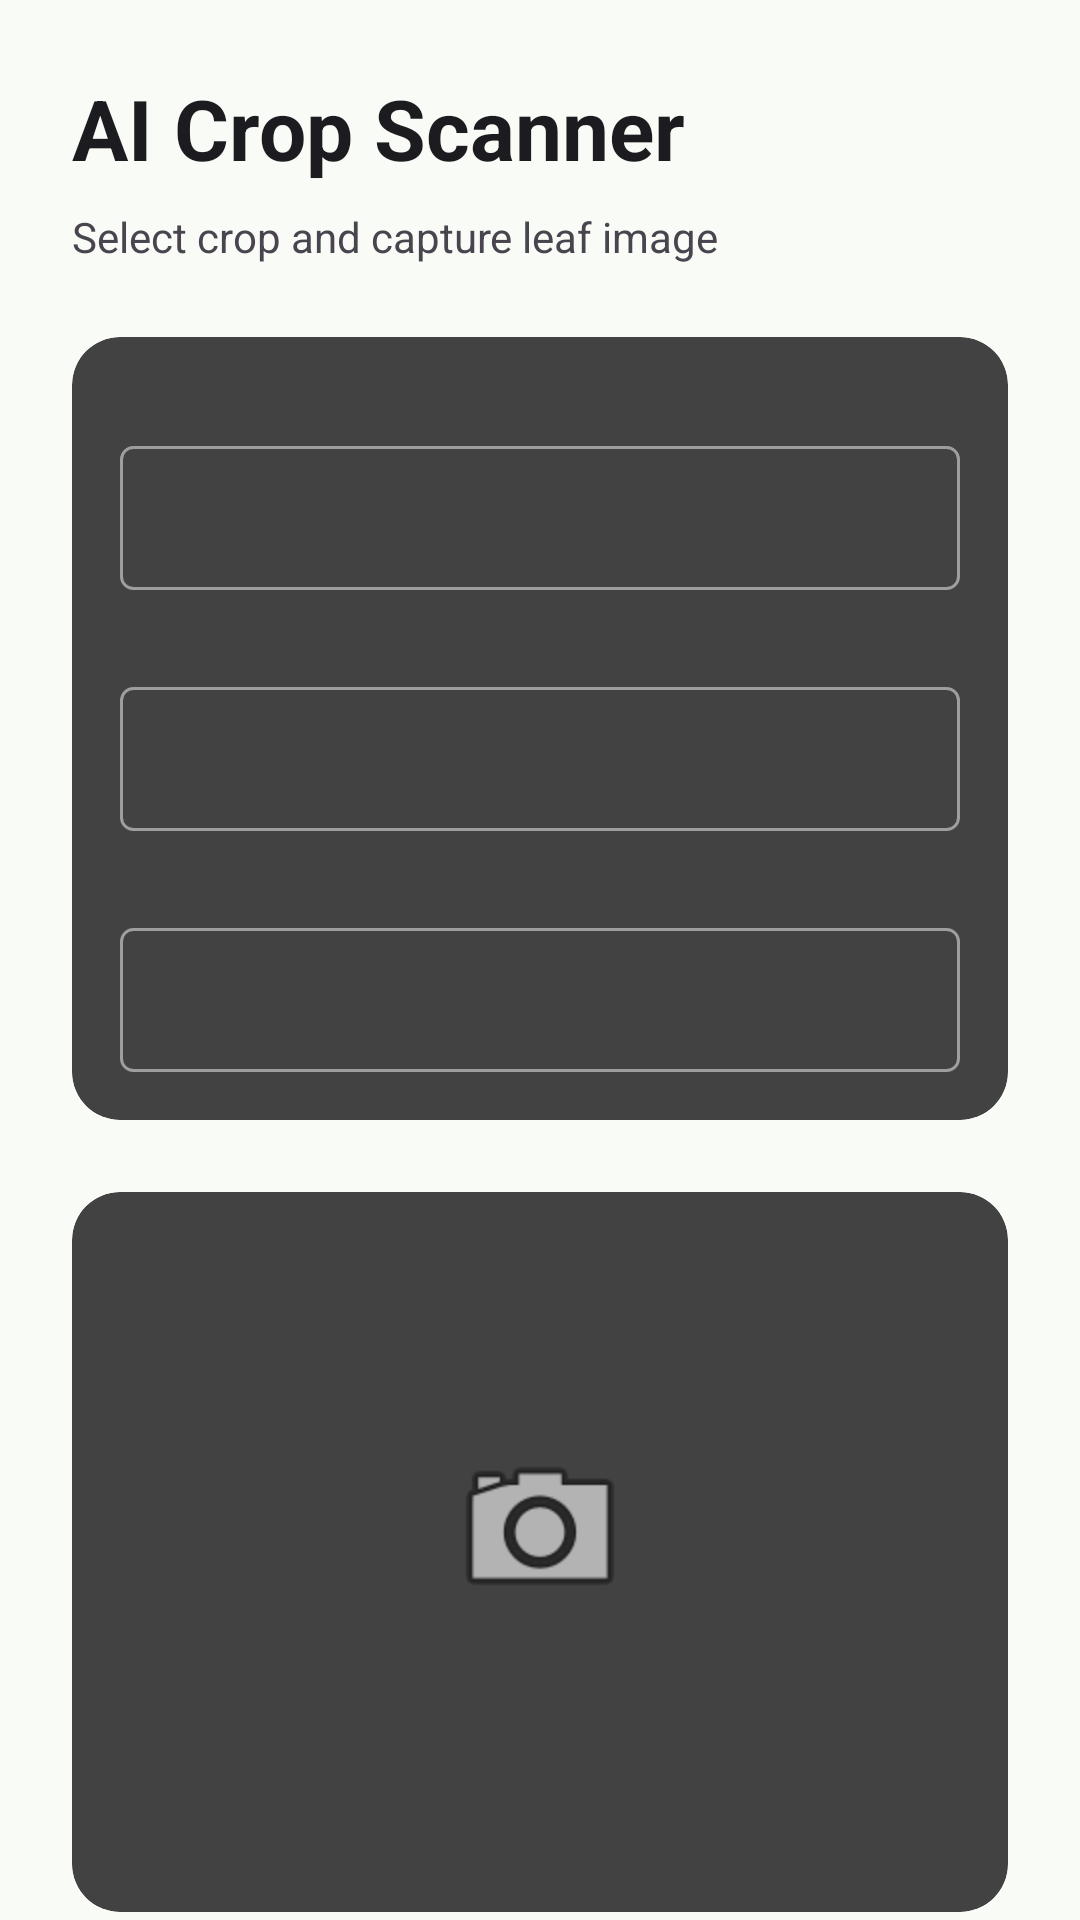

Named icons in this screenshot (1080*1920) and their bounding boxes, (x1, y1, x2, y2):
camera: (469, 1470, 611, 1582)
